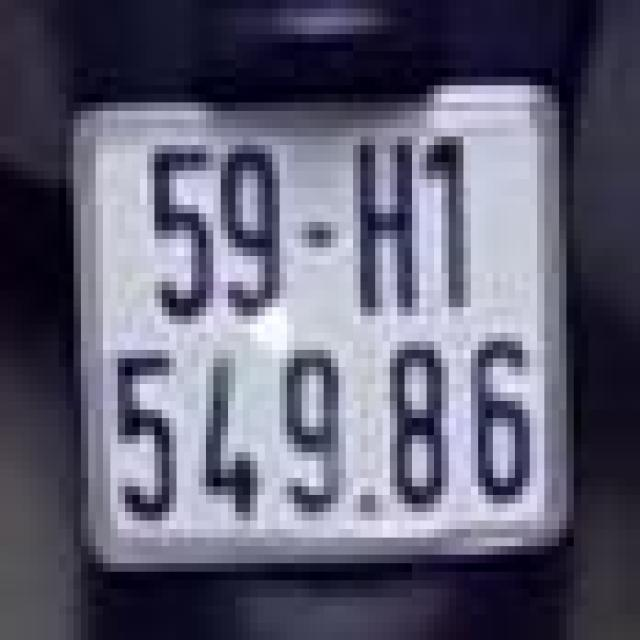1: (423, 132, 482, 320)
4: (191, 346, 265, 516)
5: (107, 337, 195, 525), (140, 145, 213, 324)
6: (467, 337, 541, 516)
8: (375, 337, 456, 525)
9: (268, 342, 349, 520), (217, 141, 291, 320)
H: (346, 137, 419, 324)
